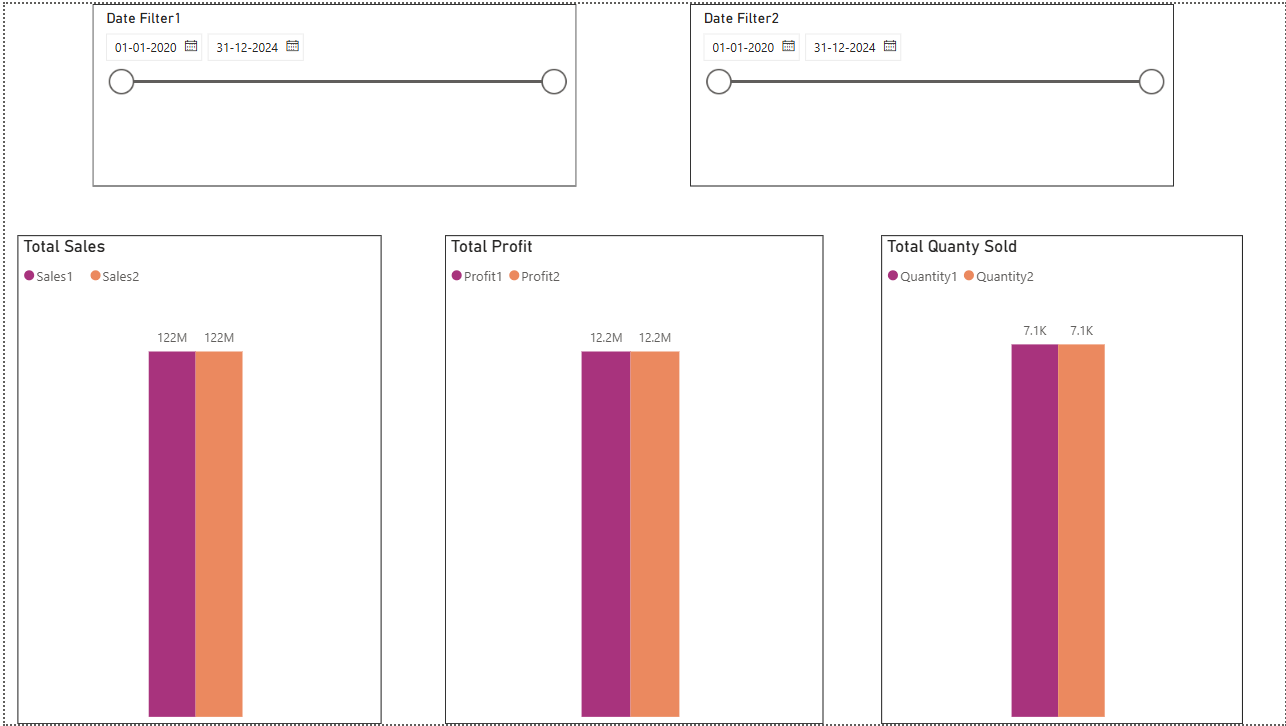

What the dashboard file says about the page in this screenshot:
{"tool":"powerbi","page":{"name":"Requirement 4-Camparison sales/profit/quanty","canvas":[1280,720],"ordinal":2},"visuals":[{"type":"slicer","fields":{"Values":["Date Table1.Date"]},"box":[87.5,0,483.8,182.5],"z":0},{"type":"slicer","fields":{"Values":["Date Table2.Date"]},"box":[685,0,483.8,182.5],"z":1000},{"type":"clusteredColumnChart","title":"Total Sales","fields":{"Y":["Sum(Fact Table.Net Sales    )","Date Table1.Sum of Net Sales"]},"box":[12.5,231.2,363.8,488.8],"z":2000},{"type":"clusteredColumnChart","title":"Total Profit","fields":{"Y":["Sum(Fact Table.Profit)","Measures Table.Total Profit"]},"box":[440,231.2,378.8,488.8],"z":3000},{"type":"clusteredColumnChart","title":"Total Quanty Sold","fields":{"Y":["Sum(Fact Table.Units Sold)","Measures Table.Quantity Sold"]},"box":[876.2,231.2,361.2,488.8],"z":4000}]}

Visuals, with their boxes in screenshot pixels (x1, y1, x2, y2), scaled from the page's 1280x720 canvas onto the 1286x726 screenshot:
slicer - Date Table1.Date: bbox=[88, 0, 574, 184]
slicer - Date Table2.Date: bbox=[688, 0, 1174, 184]
"Total Sales" clusteredColumnChart: bbox=[13, 233, 378, 725]
"Total Profit" clusteredColumnChart: bbox=[442, 233, 823, 725]
"Total Quanty Sold" clusteredColumnChart: bbox=[880, 233, 1243, 725]
